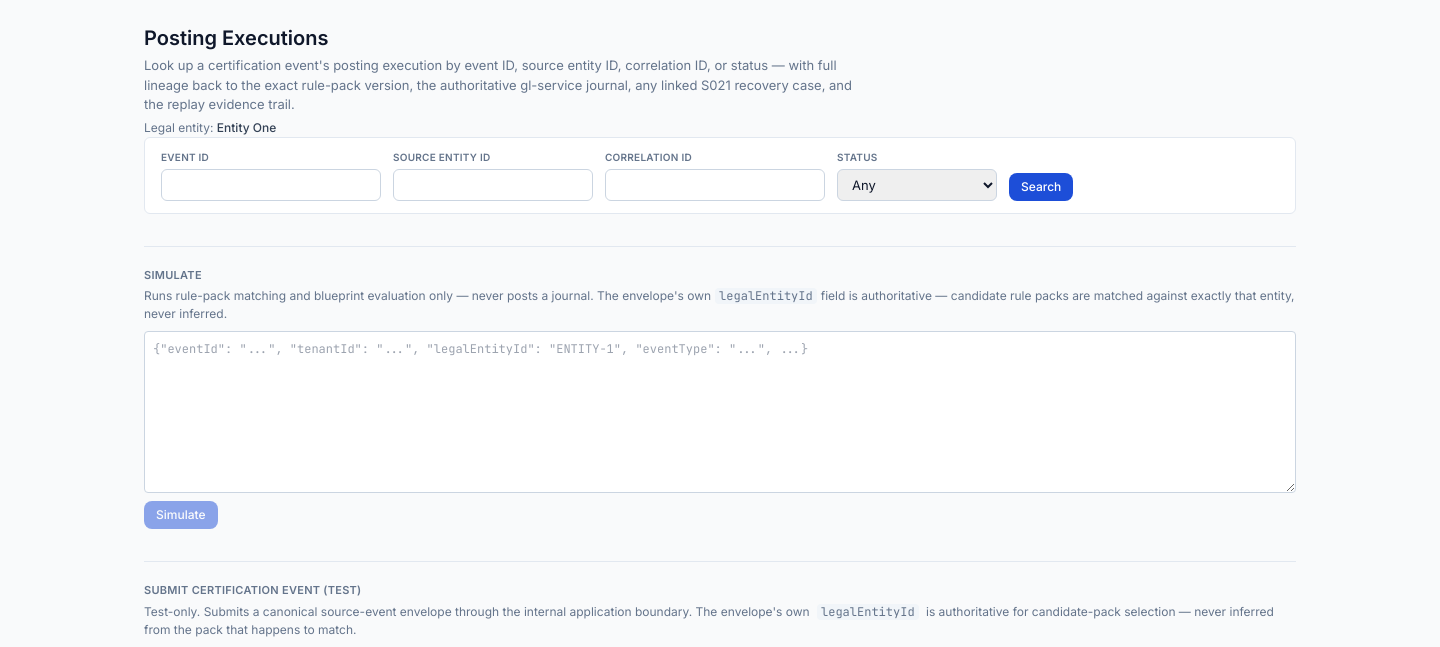
Test case: PostingExecutions screen › shows the unauthorized state on a 401/403 response
This screenshot has width=1440, height=647.
Click the button with test id "posting-executions-search-button".
click(1041, 186)  # box [1009,172,1073,200]
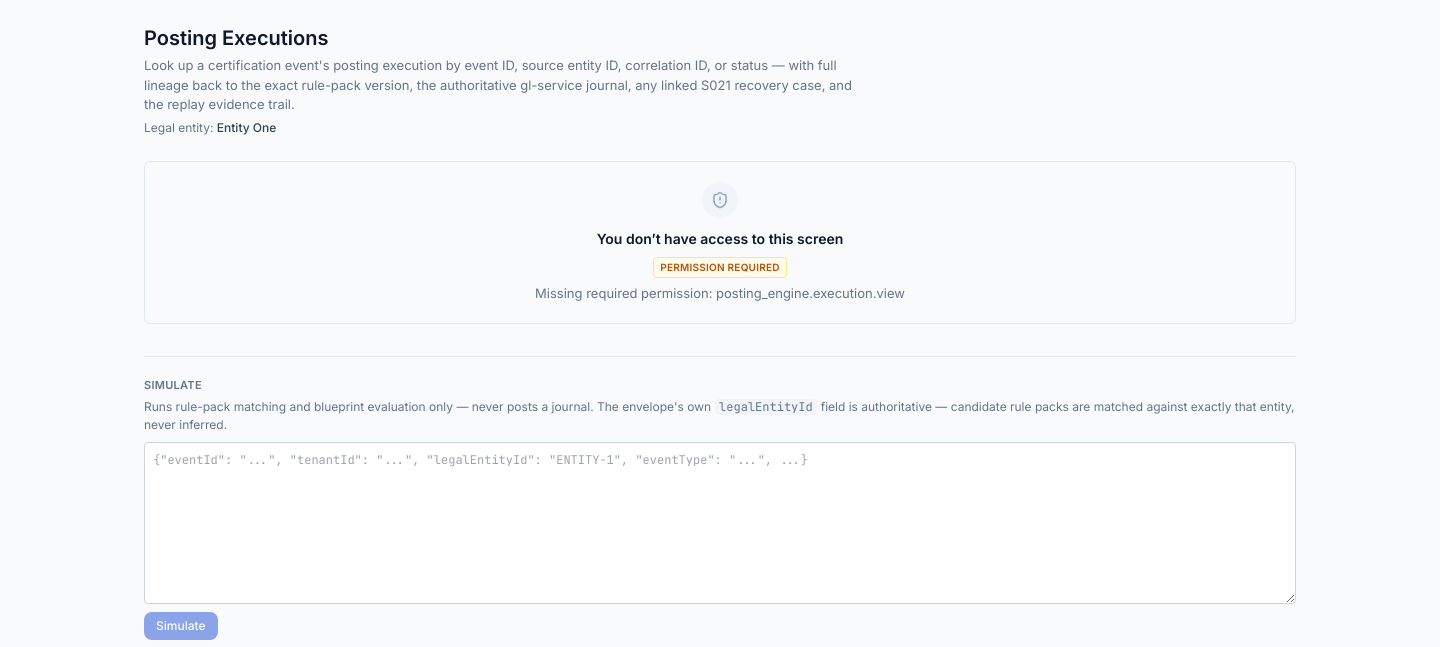
Result: the element with test id "posting-executions-unauthorized" is shown at [144,160,1296,324]
